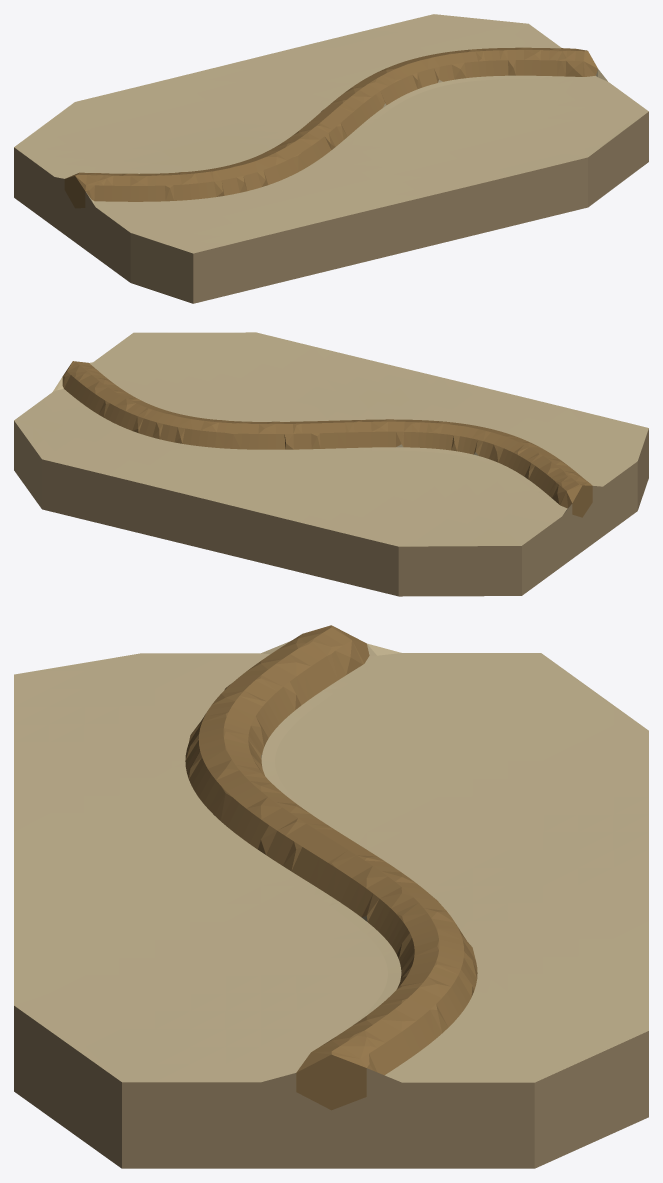
The model's file is planolites-smooth-burrow.glb.
3 renders of one model, top to bottom at view 1: azimuth 30°, elevation 25°; view 2: azimuth 150°, elevation 25°; view 3: azimuth 270°, elevation 25°, orthographic. The views are drawn at different scales.
Visible parts, largest first — view 1: planolites-smooth-burrow_continuous_sediment_and_trace_relie; view 2: planolites-smooth-burrow_continuous_sediment_and_trace_relie; view 3: planolites-smooth-burrow_continuous_sediment_and_trace_relie.
Part boxes in pixels (x1,y1,x2,y2): planolites-smooth-burrow_continuous_sediment_and_trace_relie: (14, 14, 648, 303); planolites-smooth-burrow_continuous_sediment_and_trace_relie: (14, 332, 648, 596); planolites-smooth-burrow_continuous_sediment_and_trace_relie: (14, 625, 648, 1168).
Size of the model in its own units: 0.16 by 0.02 by 0.1.
